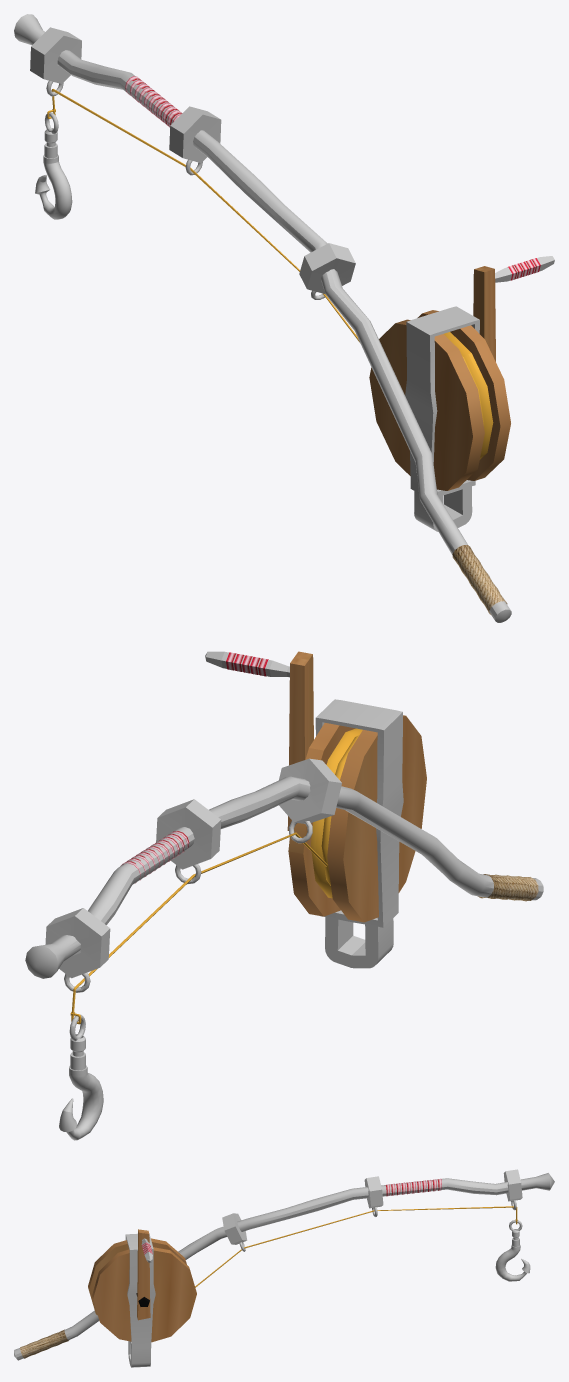
Rendered from Udochka (1).fbx.
3 renders of one model, top to bottom at view 1: azimuth 30°, elevation 25°; view 2: azimuth 150°, elevation 25°; view 3: azimuth 270°, elevation 25°, orthographic. The views are drawn at different scales.
Visible parts, largest first — view 1: Cylinder.004, Cylinder.012, Cube, Cylinder.002, Cylinder.001, Cylinder.003, Cylinder.009, Cylinder.005, Cylinder.011, Cylinder.008, Cylinder; view 2: Cylinder.004, Cylinder.012, Cube, Cylinder.002, Cylinder.001, Cylinder.003, Cylinder.005, Cylinder.009, Cylinder.011, Cylinder.008, Cylinder, Cylinder.007 (+1 smaller); view 3: Cylinder.004, Cylinder.012, Cube, Cylinder.005, Cylinder.009, Cylinder.008, Cylinder.011, Cylinder.003, Cylinder, Cylinder.001, Cylinder.002.
Part boxes in pixels (x1,y1,x2,y2): Cylinder.004: (369, 310, 510, 490); Cylinder.012: (14, 14, 511, 622); Cube: (405, 306, 479, 531); Cylinder.002: (30, 27, 81, 96); Cylinder.001: (169, 106, 221, 175); Cylinder.003: (299, 243, 355, 299); Cylinder.009: (35, 128, 72, 219); Cylinder.005: (473, 266, 495, 361); Cylinder.011: (452, 545, 507, 615); Cylinder.008: (47, 89, 359, 342); Cylinder: (125, 76, 182, 127); Cylinder.004: (288, 715, 426, 922); Cylinder.012: (25, 776, 543, 978); Cube: (315, 699, 403, 968); Cylinder.002: (45, 908, 110, 992); Cylinder.001: (156, 799, 221, 884); Cylinder.003: (279, 758, 341, 843); Cylinder.005: (287, 651, 313, 830); Cylinder.009: (59, 1034, 103, 1140); Cylinder.011: (478, 874, 538, 901); Cylinder.008: (70, 832, 327, 1024); Cylinder: (121, 831, 189, 883); Cylinder.007: (205, 651, 289, 677); Cylinder.004: (88, 1238, 196, 1342); Cylinder.012: (14, 1173, 554, 1360); Cube: (125, 1233, 155, 1367); Cylinder.005: (136, 1229, 150, 1320); Cylinder.009: (495, 1229, 530, 1281); Cylinder.008: (195, 1206, 517, 1287); Cylinder.011: (20, 1329, 68, 1358); Cylinder.003: (222, 1213, 247, 1251); Cylinder: (385, 1178, 441, 1196); Cylinder.001: (364, 1176, 383, 1216); Cylinder.002: (503, 1169, 522, 1210).
Bounding box in the file's own units: 130 × 170 × 463.
